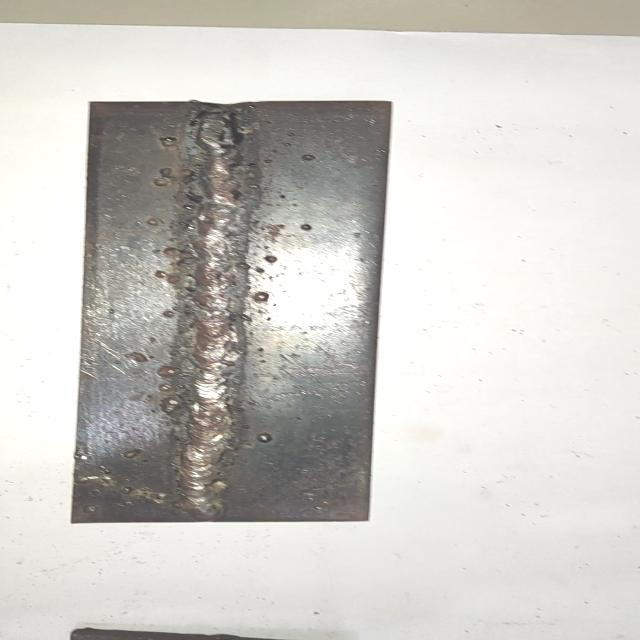Bad Weld: (174, 110, 252, 514)
Defect: (168, 102, 270, 185)
